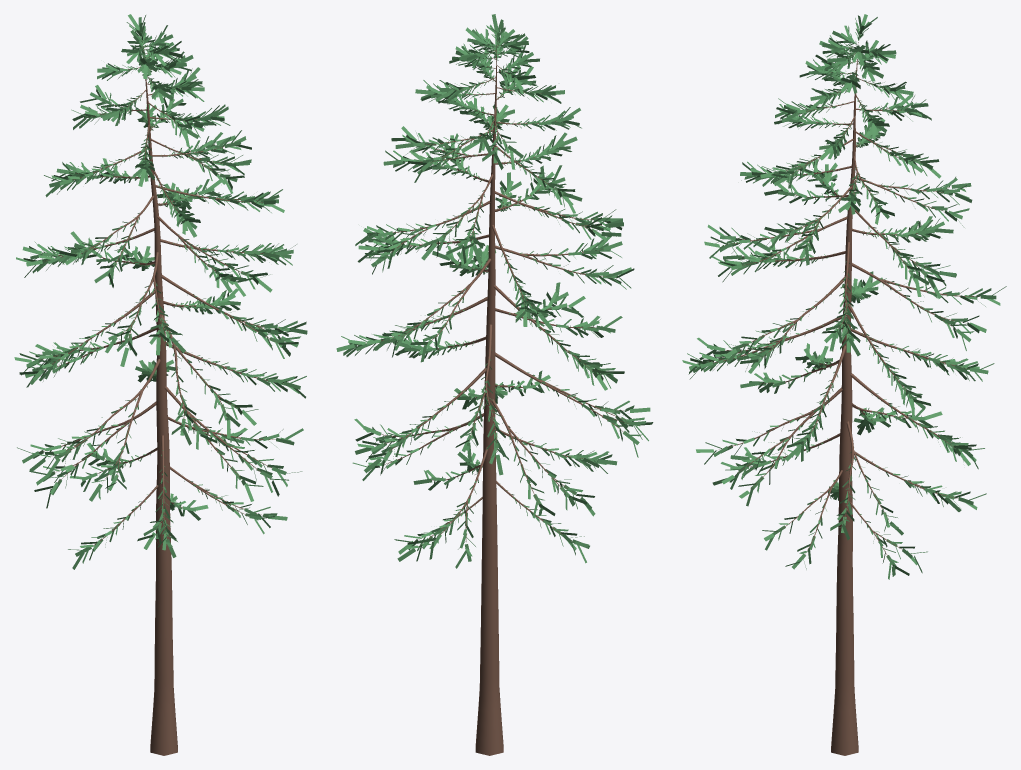
File: douglasFir01.glb
3 views of the same model, side by side, from view 1: azimuth 30°, elevation 25°; view 2: azimuth 150°, elevation 25°; view 3: azimuth 270°, elevation 25° (orthographic). The views are drawn at different scales.
Visible parts, largest first — view 1: leaves, tree.001; view 2: leaves, tree.001; view 3: leaves, tree.001.
Part boxes in pixels (left/top/right/bottom): leaves: left=14, top=14, right=307, bottom=569; tree.001: left=39, top=40, right=286, bottom=755; leaves: left=336, top=14, right=653, bottom=568; tree.001: left=377, top=37, right=629, bottom=755; leaves: left=682, top=14, right=1006, bottom=579; tree.001: left=709, top=36, right=980, bottom=755.
Size of the model in its own units: 8.38 by 21.18 by 8.55.
